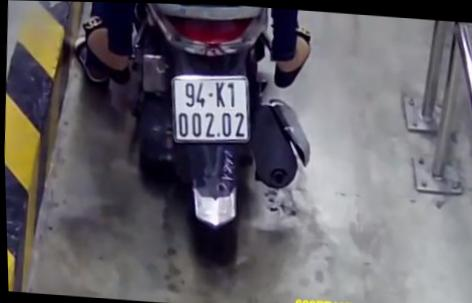LP: (167, 63, 257, 148)
